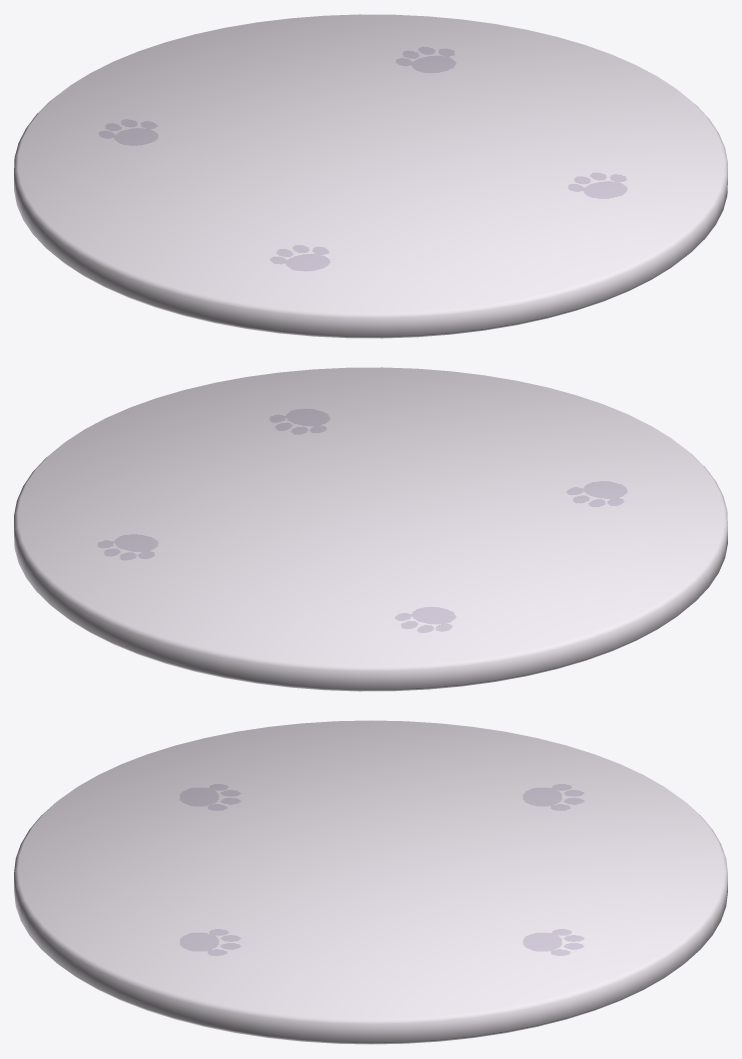
The model's file is turntable.glb.
3 renders of one model, top to bottom at view 1: azimuth 30°, elevation 25°; view 2: azimuth 150°, elevation 25°; view 3: azimuth 270°, elevation 25°, orthographic.
Parts seen in each view (by area): view 1: Plate; view 2: Plate; view 3: Plate.
Part boxes in pixels (x1=…): Plate: x1=14, y1=14, x2=727, y2=338; Plate: x1=14, y1=367, x2=727, y2=691; Plate: x1=14, y1=720, x2=727, y2=1044.
Size of the model in its own units: 1 by 0.04 by 1.
Materials: 1 (1 with a texture image).
